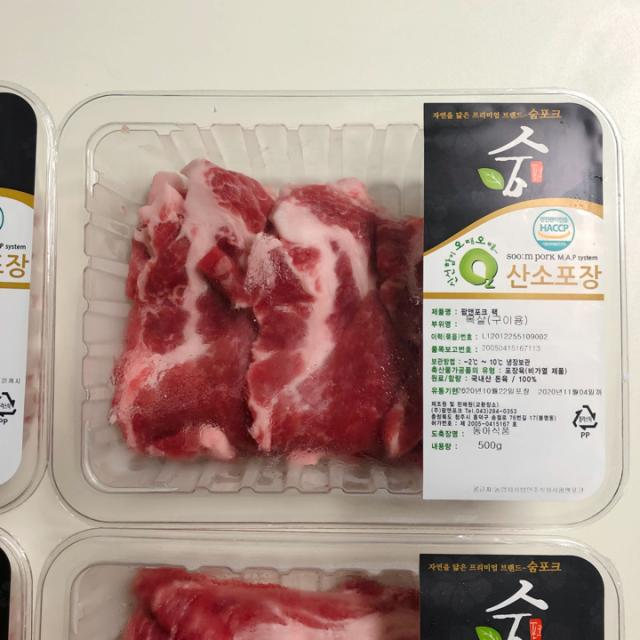pork: (50, 94, 618, 537)
